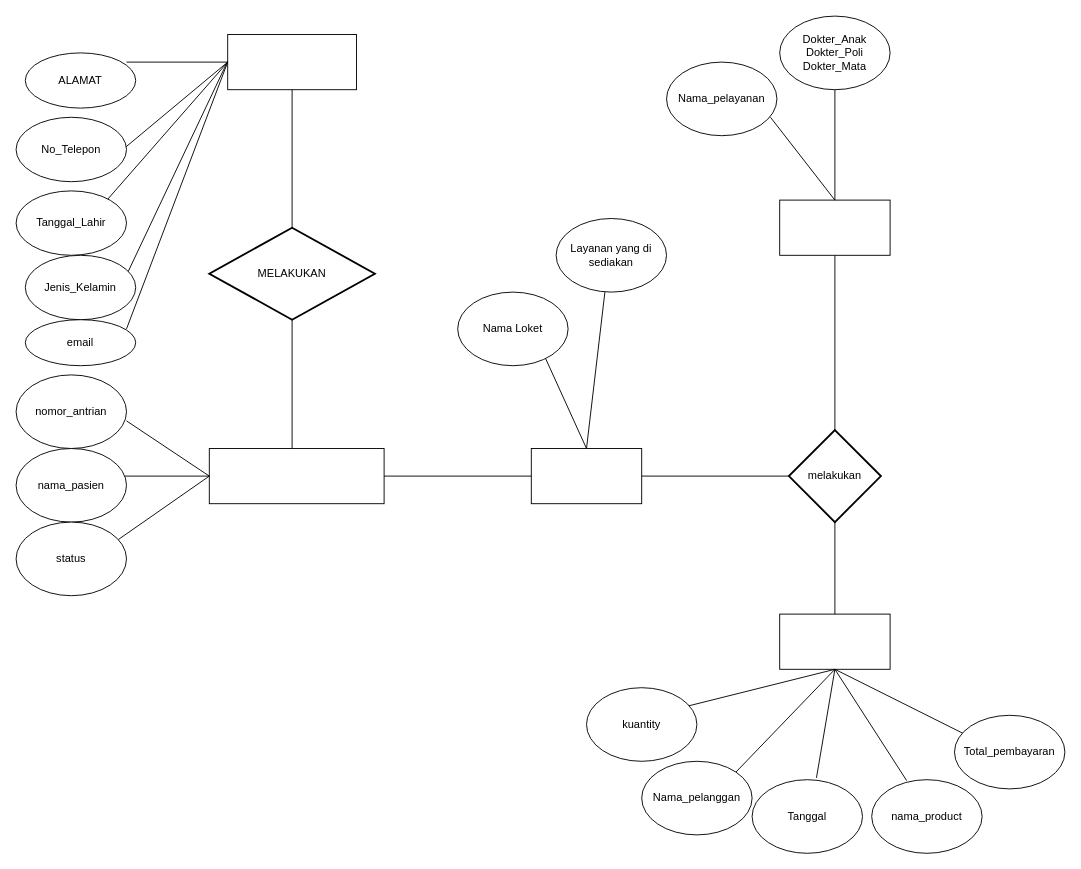
Image size: 1081x869. Some labels were removed from this diagram. Here are the shapes that lost their labels. From the top down, the centre of each, then its label:
the point at 291,62: pasien
the point at 834,227: Jenis_Pelayanan
the point at 296,476: antrian_pasien
the point at 586,476: Loket_pelayanan
the point at 834,641: Laporan_Transaksi
